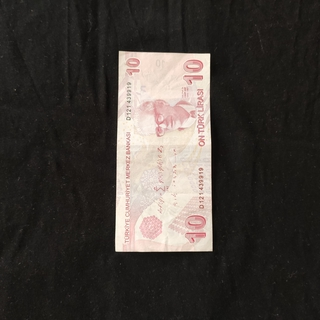10TLBack: (113, 49, 214, 253)
